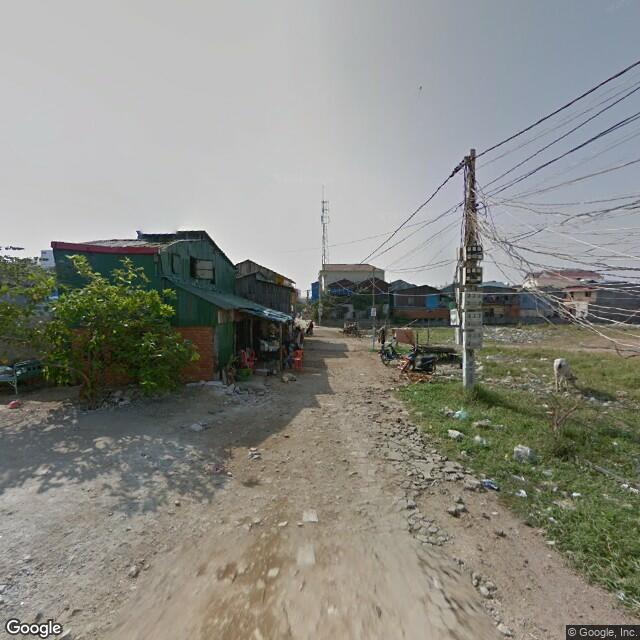litter: (484, 467, 499, 493), (570, 482, 584, 504), (517, 483, 530, 505), (456, 406, 469, 425)
